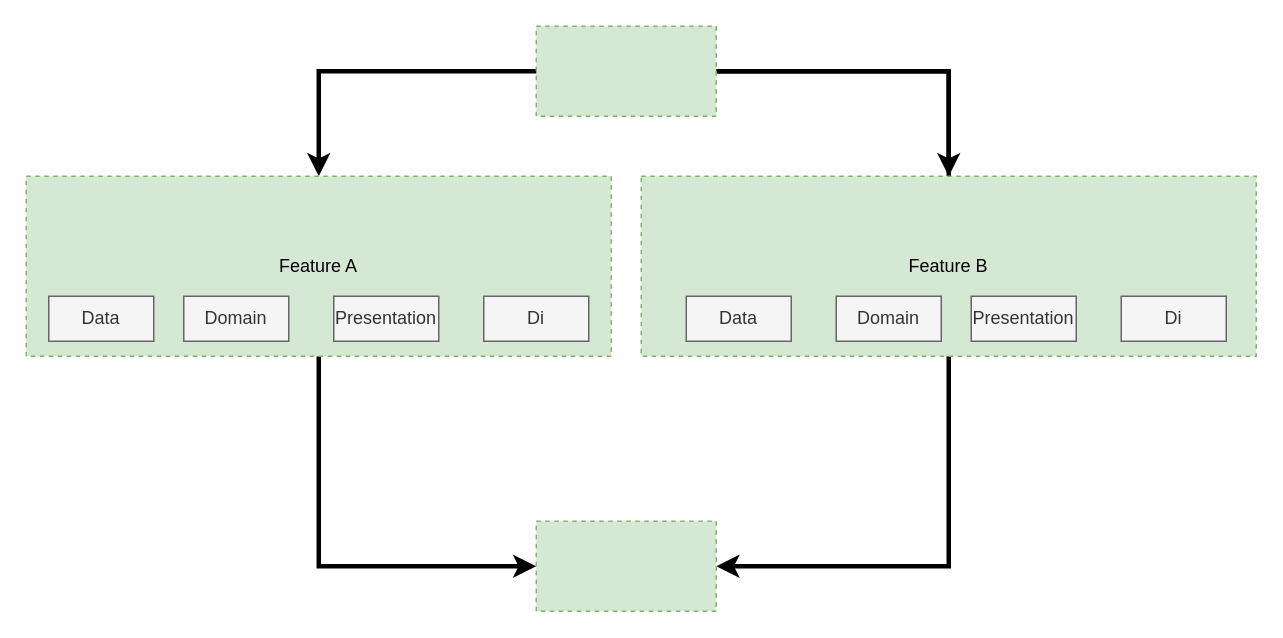
The diagram is 1283 pixels wide and 638 high, and some of its shapes have lost their labels. The shapes that lost their labels are listed below. From the top down, each one's centre as x and y in pixels, then its label:
pixel 625 70: App Module
pixel 625 565: Common module
